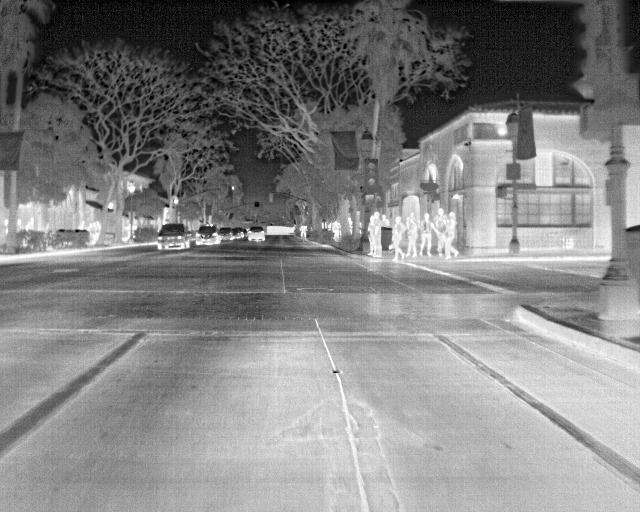bicycle: (154, 222, 192, 254), (191, 225, 220, 245), (242, 225, 266, 243), (213, 228, 234, 243)
empty: (401, 208, 420, 259), (387, 216, 407, 260), (443, 212, 461, 259), (368, 210, 383, 258), (435, 204, 448, 258), (420, 213, 434, 256)
